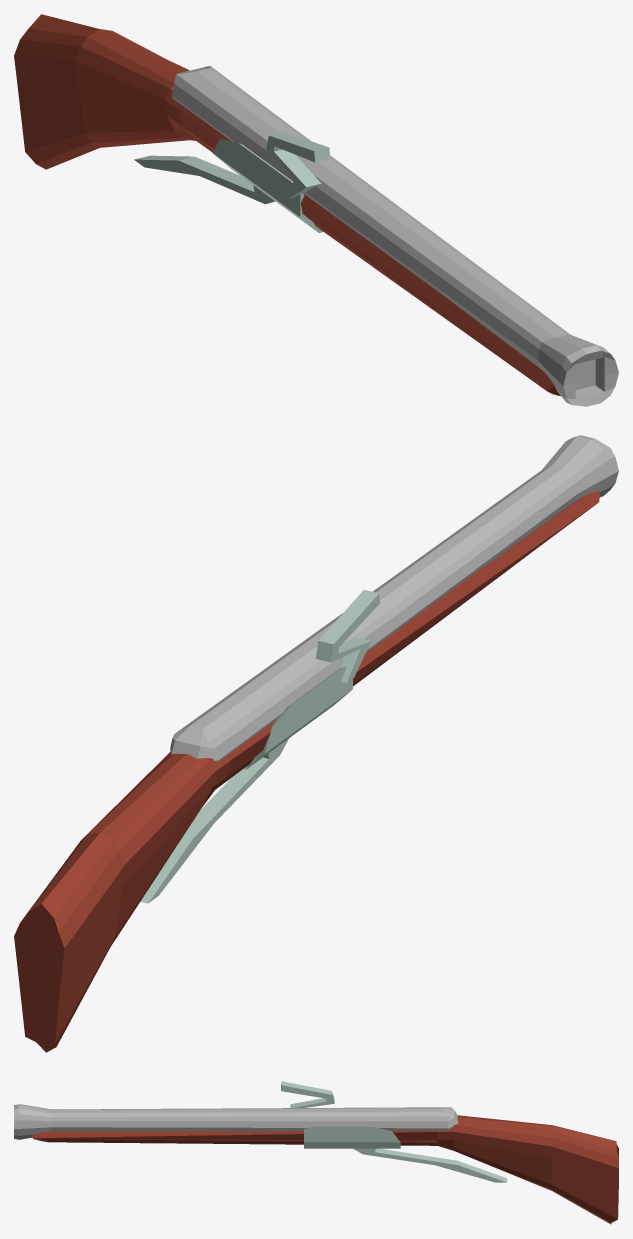
Rendered from Trabuco.fbx.
3 renders of one model, top to bottom at view 1: azimuth 30°, elevation 25°; view 2: azimuth 150°, elevation 25°; view 3: azimuth 270°, elevation 25°, orthographic. The views are drawn at different scales.
Parts seen in each view (by area): view 1: Cube.018; view 2: Cube.018; view 3: Cube.018.
Part boxes in pixels (x1=…): Cube.018: x1=14, y1=14, x2=618, y2=406; Cube.018: x1=14, y1=435, x2=618, y2=1052; Cube.018: x1=14, y1=1081, x2=618, y2=1224.
Size of the model in its own units: 71.63 by 276 by 1123.
